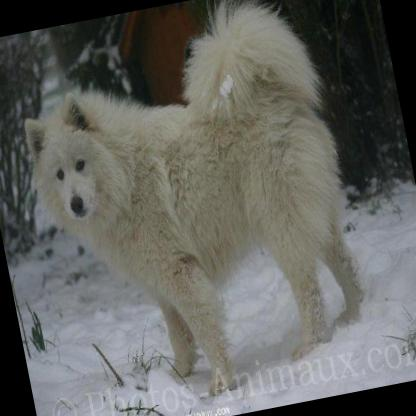Samoyed: (0, 0, 378, 410)
